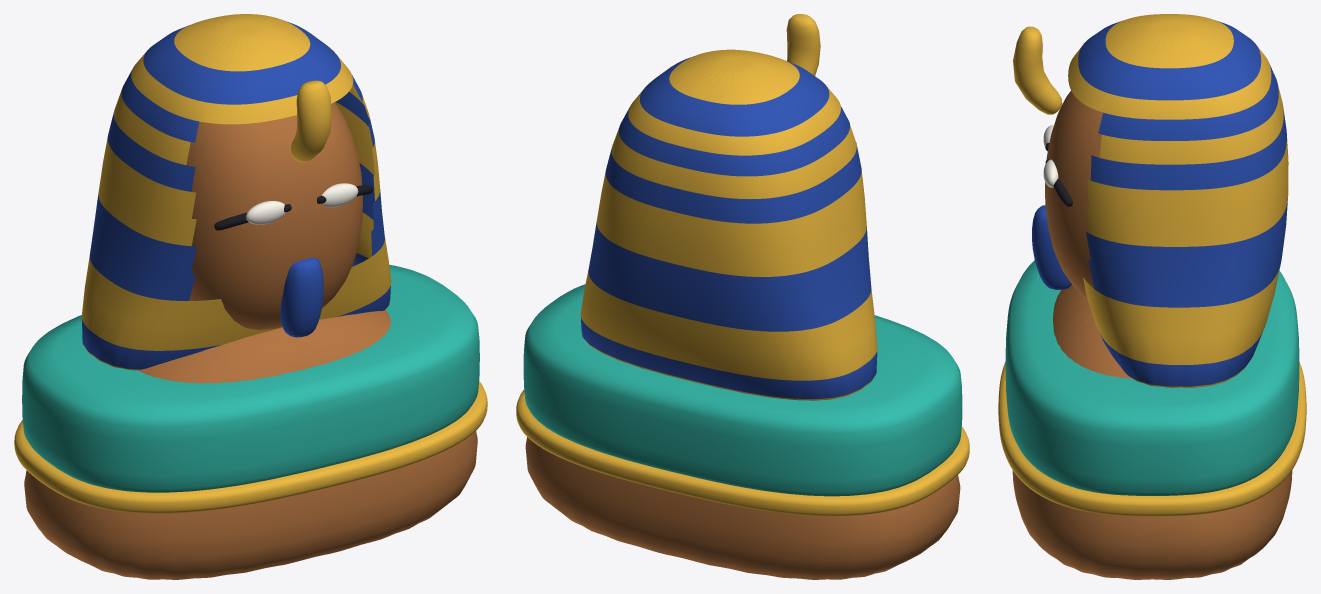
The model's file is busto_faraon.glb.
3 views of the same model, side by side, from view 1: azimuth 30°, elevation 25°; view 2: azimuth 150°, elevation 25°; view 3: azimuth 270°, elevation 25° (orthographic). The views are drawn at different scales.
Parts seen in each view (by area): view 1: collar, nemes, pecho, cabeza, collar_borde, barba, cobra, ojo-1, ojo1; view 2: nemes, collar, pecho, collar_borde, cobra; view 3: nemes, collar, pecho, collar_borde, cabeza, cobra, barba.
Part boxes in pixels (x1=…): collar: x1=22, y1=265, x2=479, y2=492; nemes: x1=81, y1=14, x2=391, y2=370; pecho: x1=24, y1=310, x2=477, y2=579; cabeza: x1=186, y1=102, x2=362, y2=329; collar_borde: x1=14, y1=381, x2=487, y2=513; barba: x1=280, y1=257, x2=323, y2=337; cobra: x1=290, y1=80, x2=331, y2=162; ojo-1: x1=246, y1=201, x2=285, y2=224; ojo1: x1=322, y1=183, x2=358, y2=207; nemes: x1=580, y1=49, x2=877, y2=400; collar: x1=523, y1=284, x2=962, y2=496; pecho: x1=525, y1=437, x2=960, y2=579; collar_borde: x1=516, y1=389, x2=969, y2=516; cobra: x1=786, y1=14, x2=820, y2=75; nemes: x1=1068, y1=14, x2=1288, y2=387; collar: x1=1005, y1=260, x2=1299, y2=495; pecho: x1=1012, y1=285, x2=1292, y2=579; collar_borde: x1=998, y1=361, x2=1306, y2=516; cabeza: x1=1045, y1=91, x2=1102, y2=299; cobra: x1=1013, y1=26, x2=1062, y2=114; barba: x1=1032, y1=205, x2=1071, y2=289.
Size of the model in its own units: 0.4351 by 0.481 by 0.2795.
